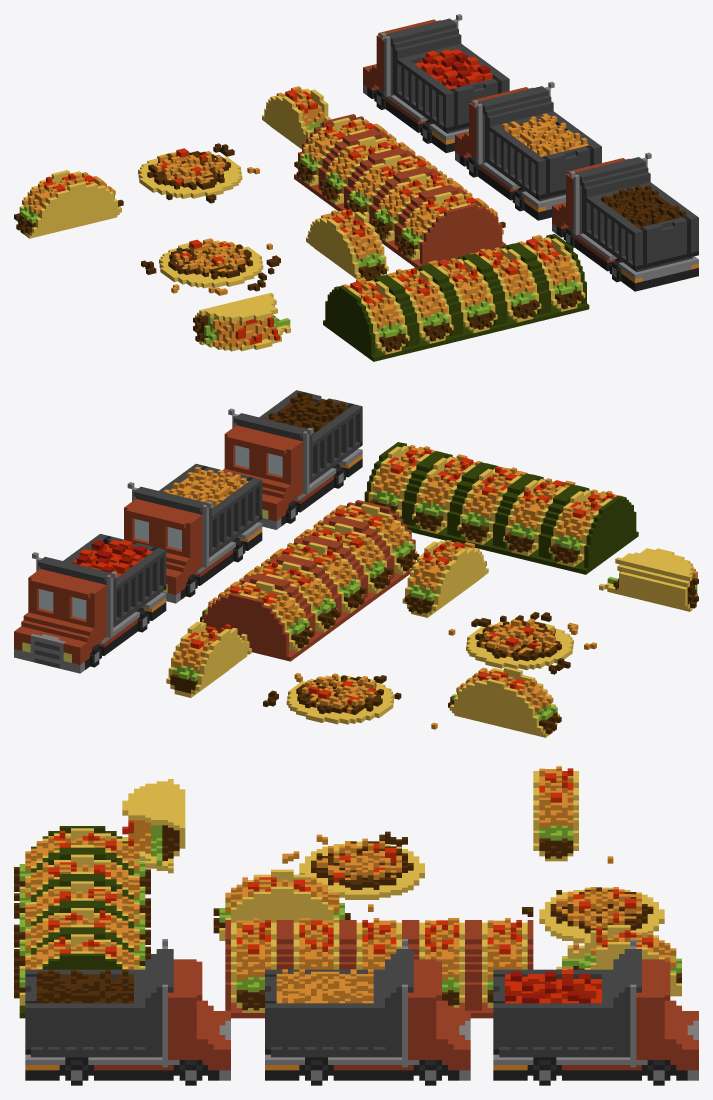
The model's file is tacos-1.obj.
3 renders of one model, top to bottom at view 1: azimuth 30°, elevation 25°; view 2: azimuth 150°, elevation 25°; view 3: azimuth 270°, elevation 25°, orthographic. The views are drawn at different scales.
Parts seen in each view (by area): view 1: tacos-1; view 2: tacos-1; view 3: tacos-1.
Part boxes in pixels (x1,y1,x2,y2): tacos-1: (14,14,698,361); tacos-1: (14,390,698,737); tacos-1: (14,766,698,1085).
Bounding box in the file's own units: 118 × 20 × 120.
Materials: 1 (1 with a texture image).
